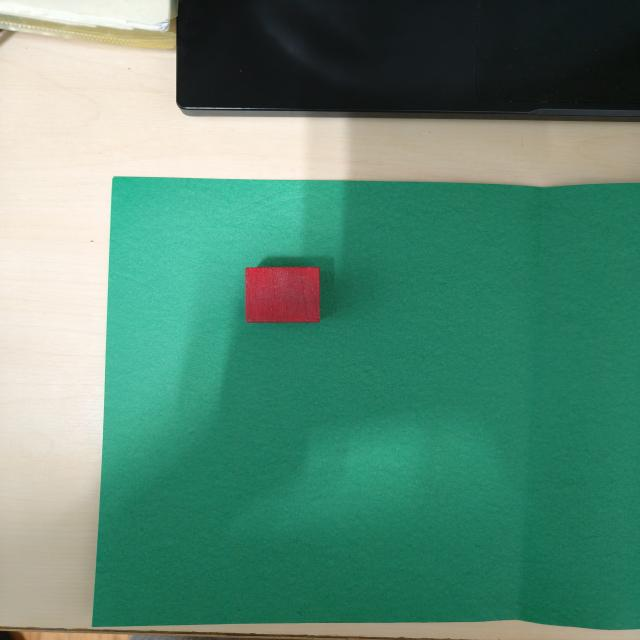red_block: (246, 268, 318, 323)
